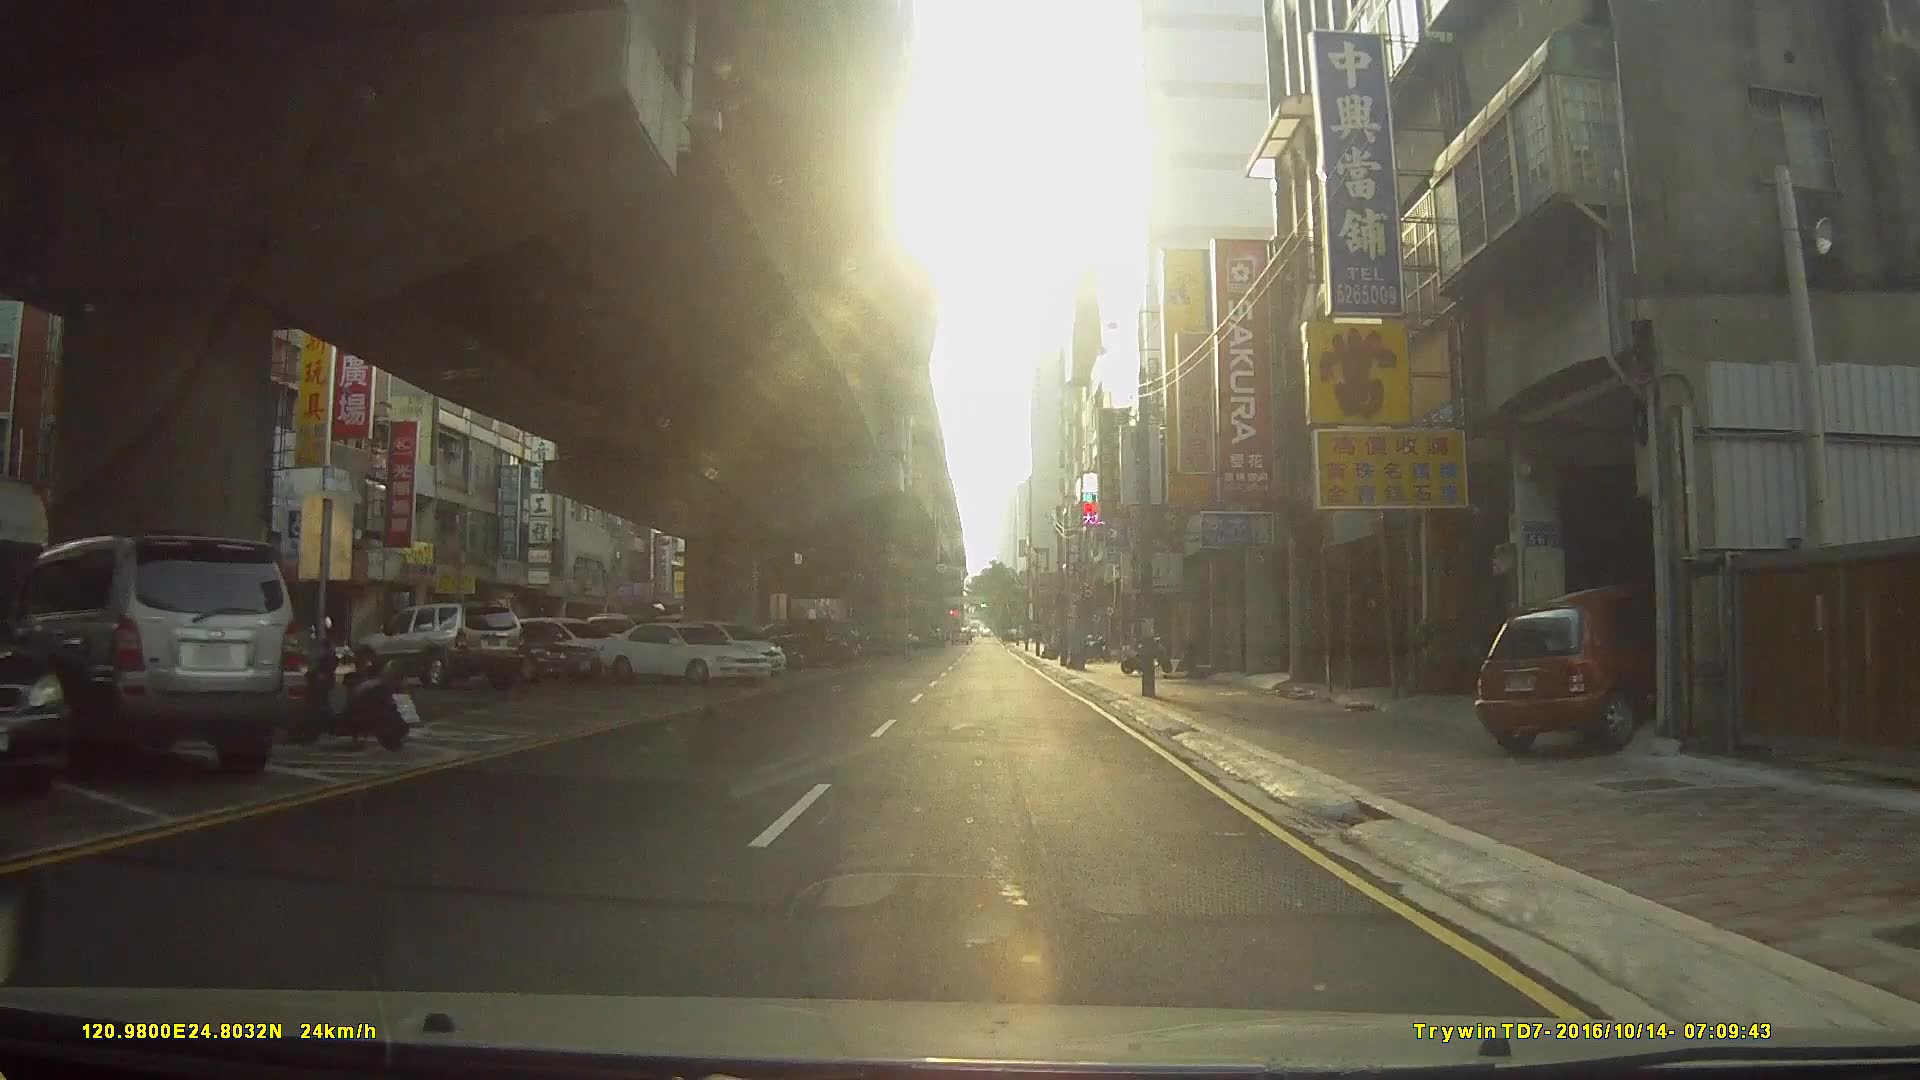vehicle: (8, 535, 306, 779), (1474, 579, 1695, 754), (352, 597, 525, 684), (427, 617, 600, 684), (596, 622, 774, 684)
